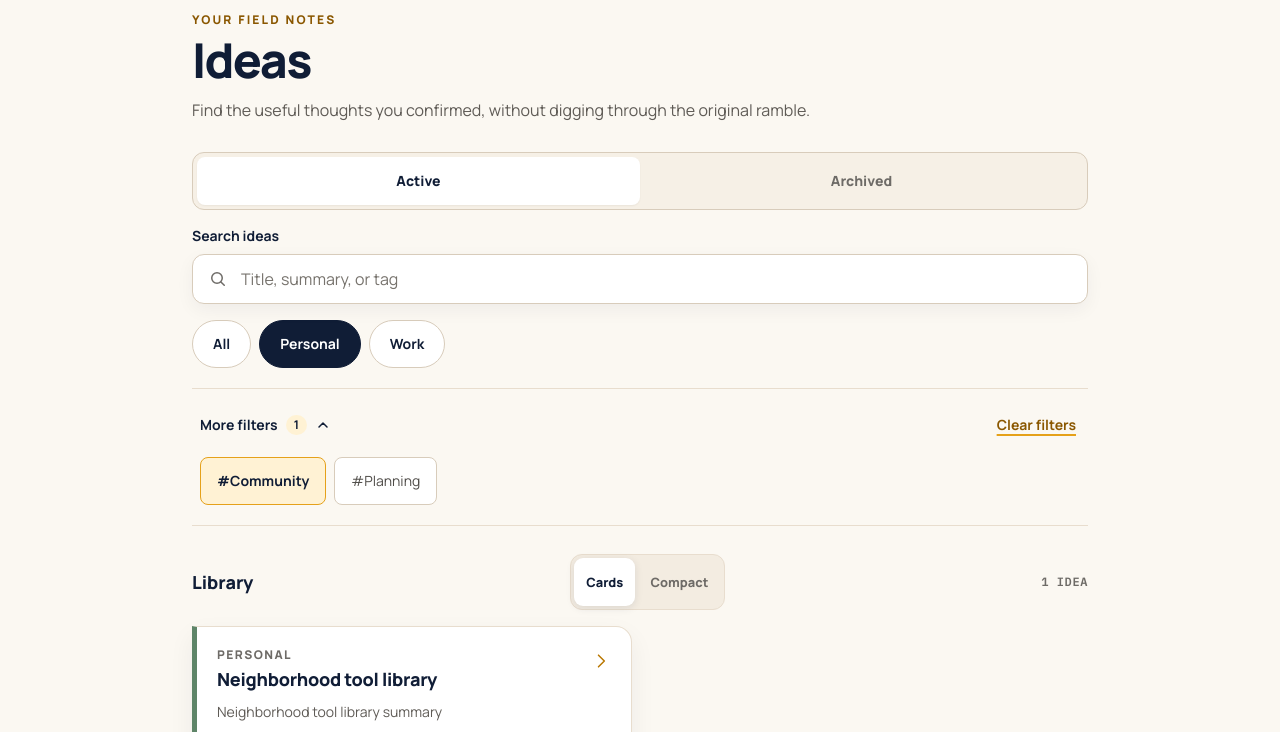
IdeaLibraryScreen › combines URL-initialized category and tag filters, then clears them
Expected: the text "1 idea" is shown, [1041,574,1088,590]
Click the button "Clear filters" at point(1036, 425), box [985,401,1088,449]
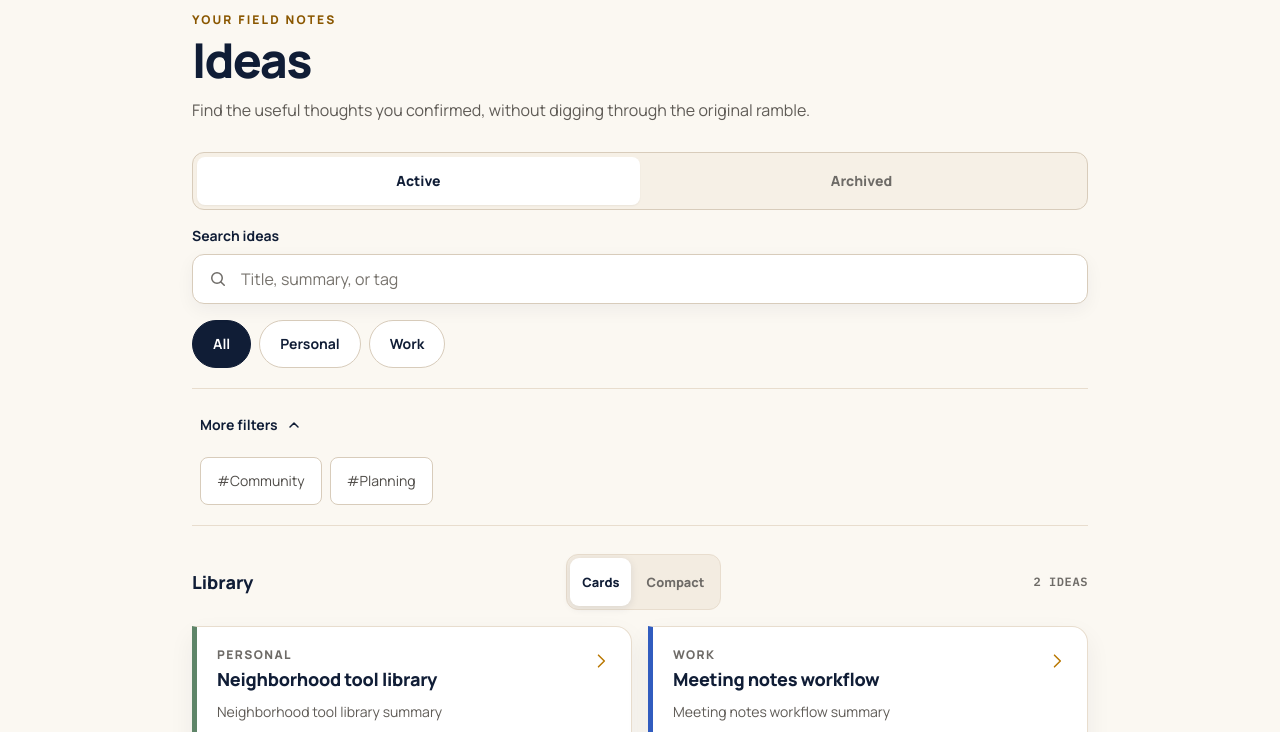
Expected: the text "2 ideas" is shown, [1033,574,1088,590]
